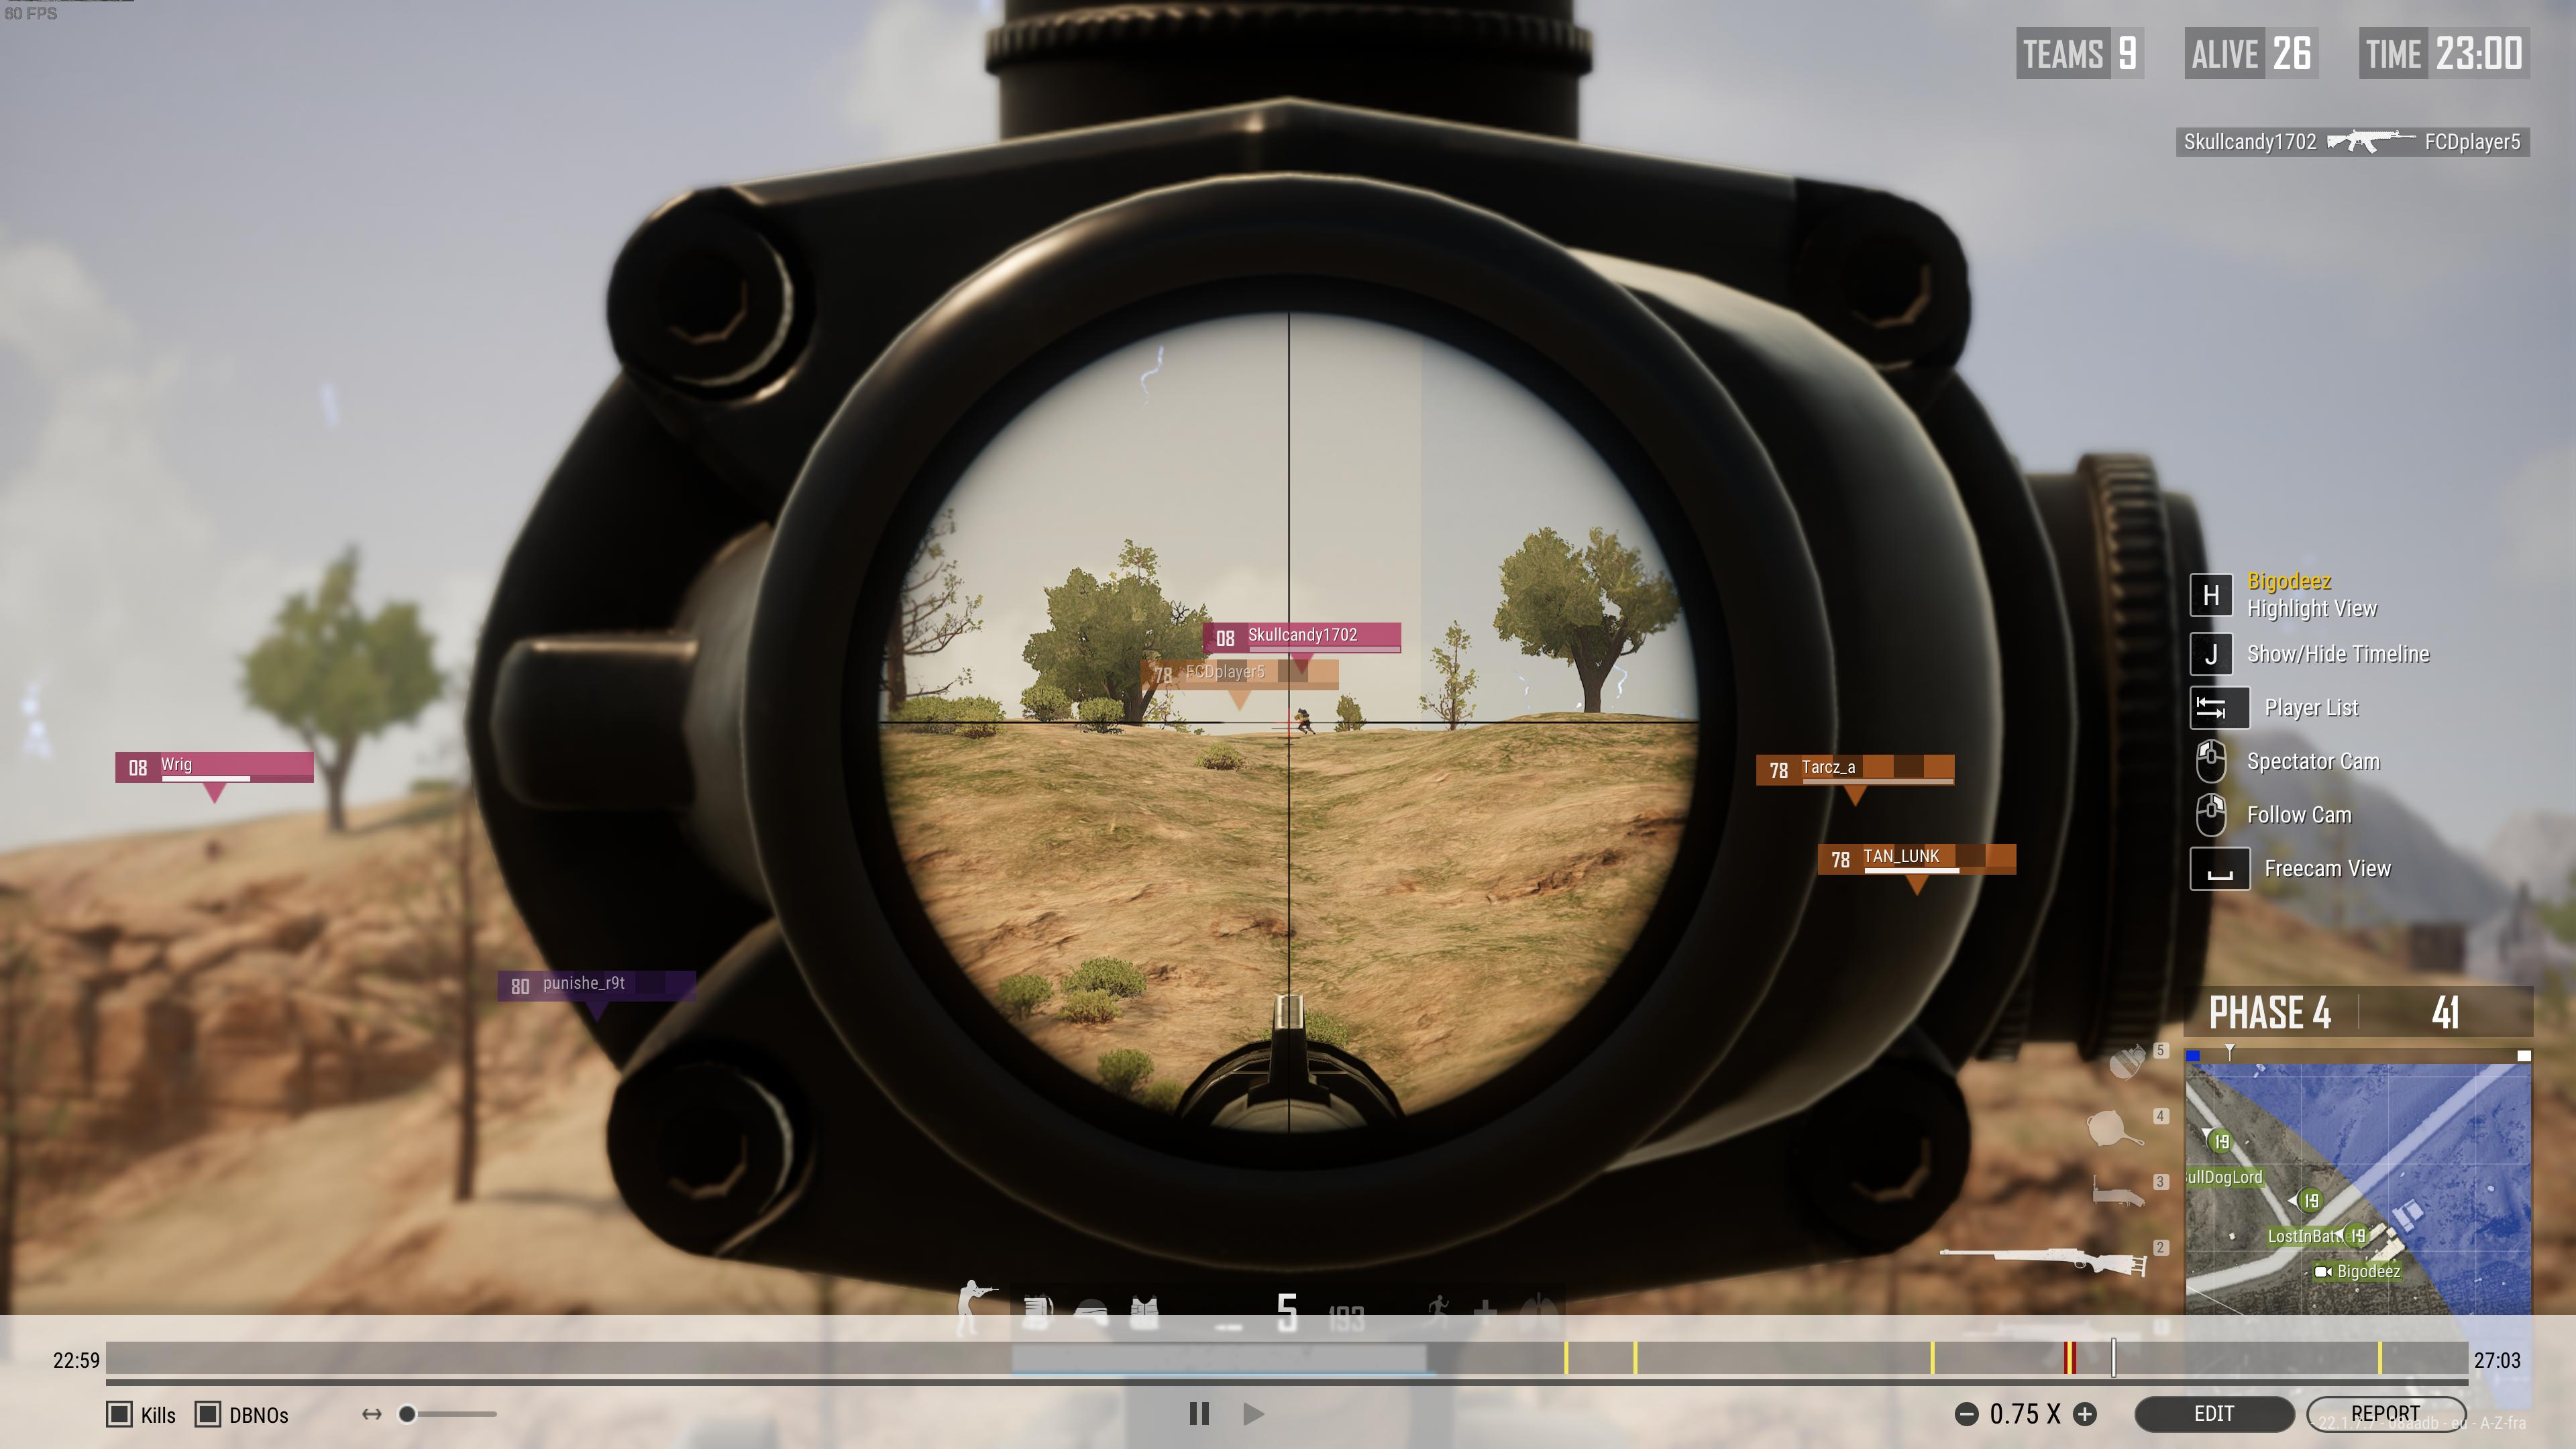enemy: (1293, 706, 1316, 734)
